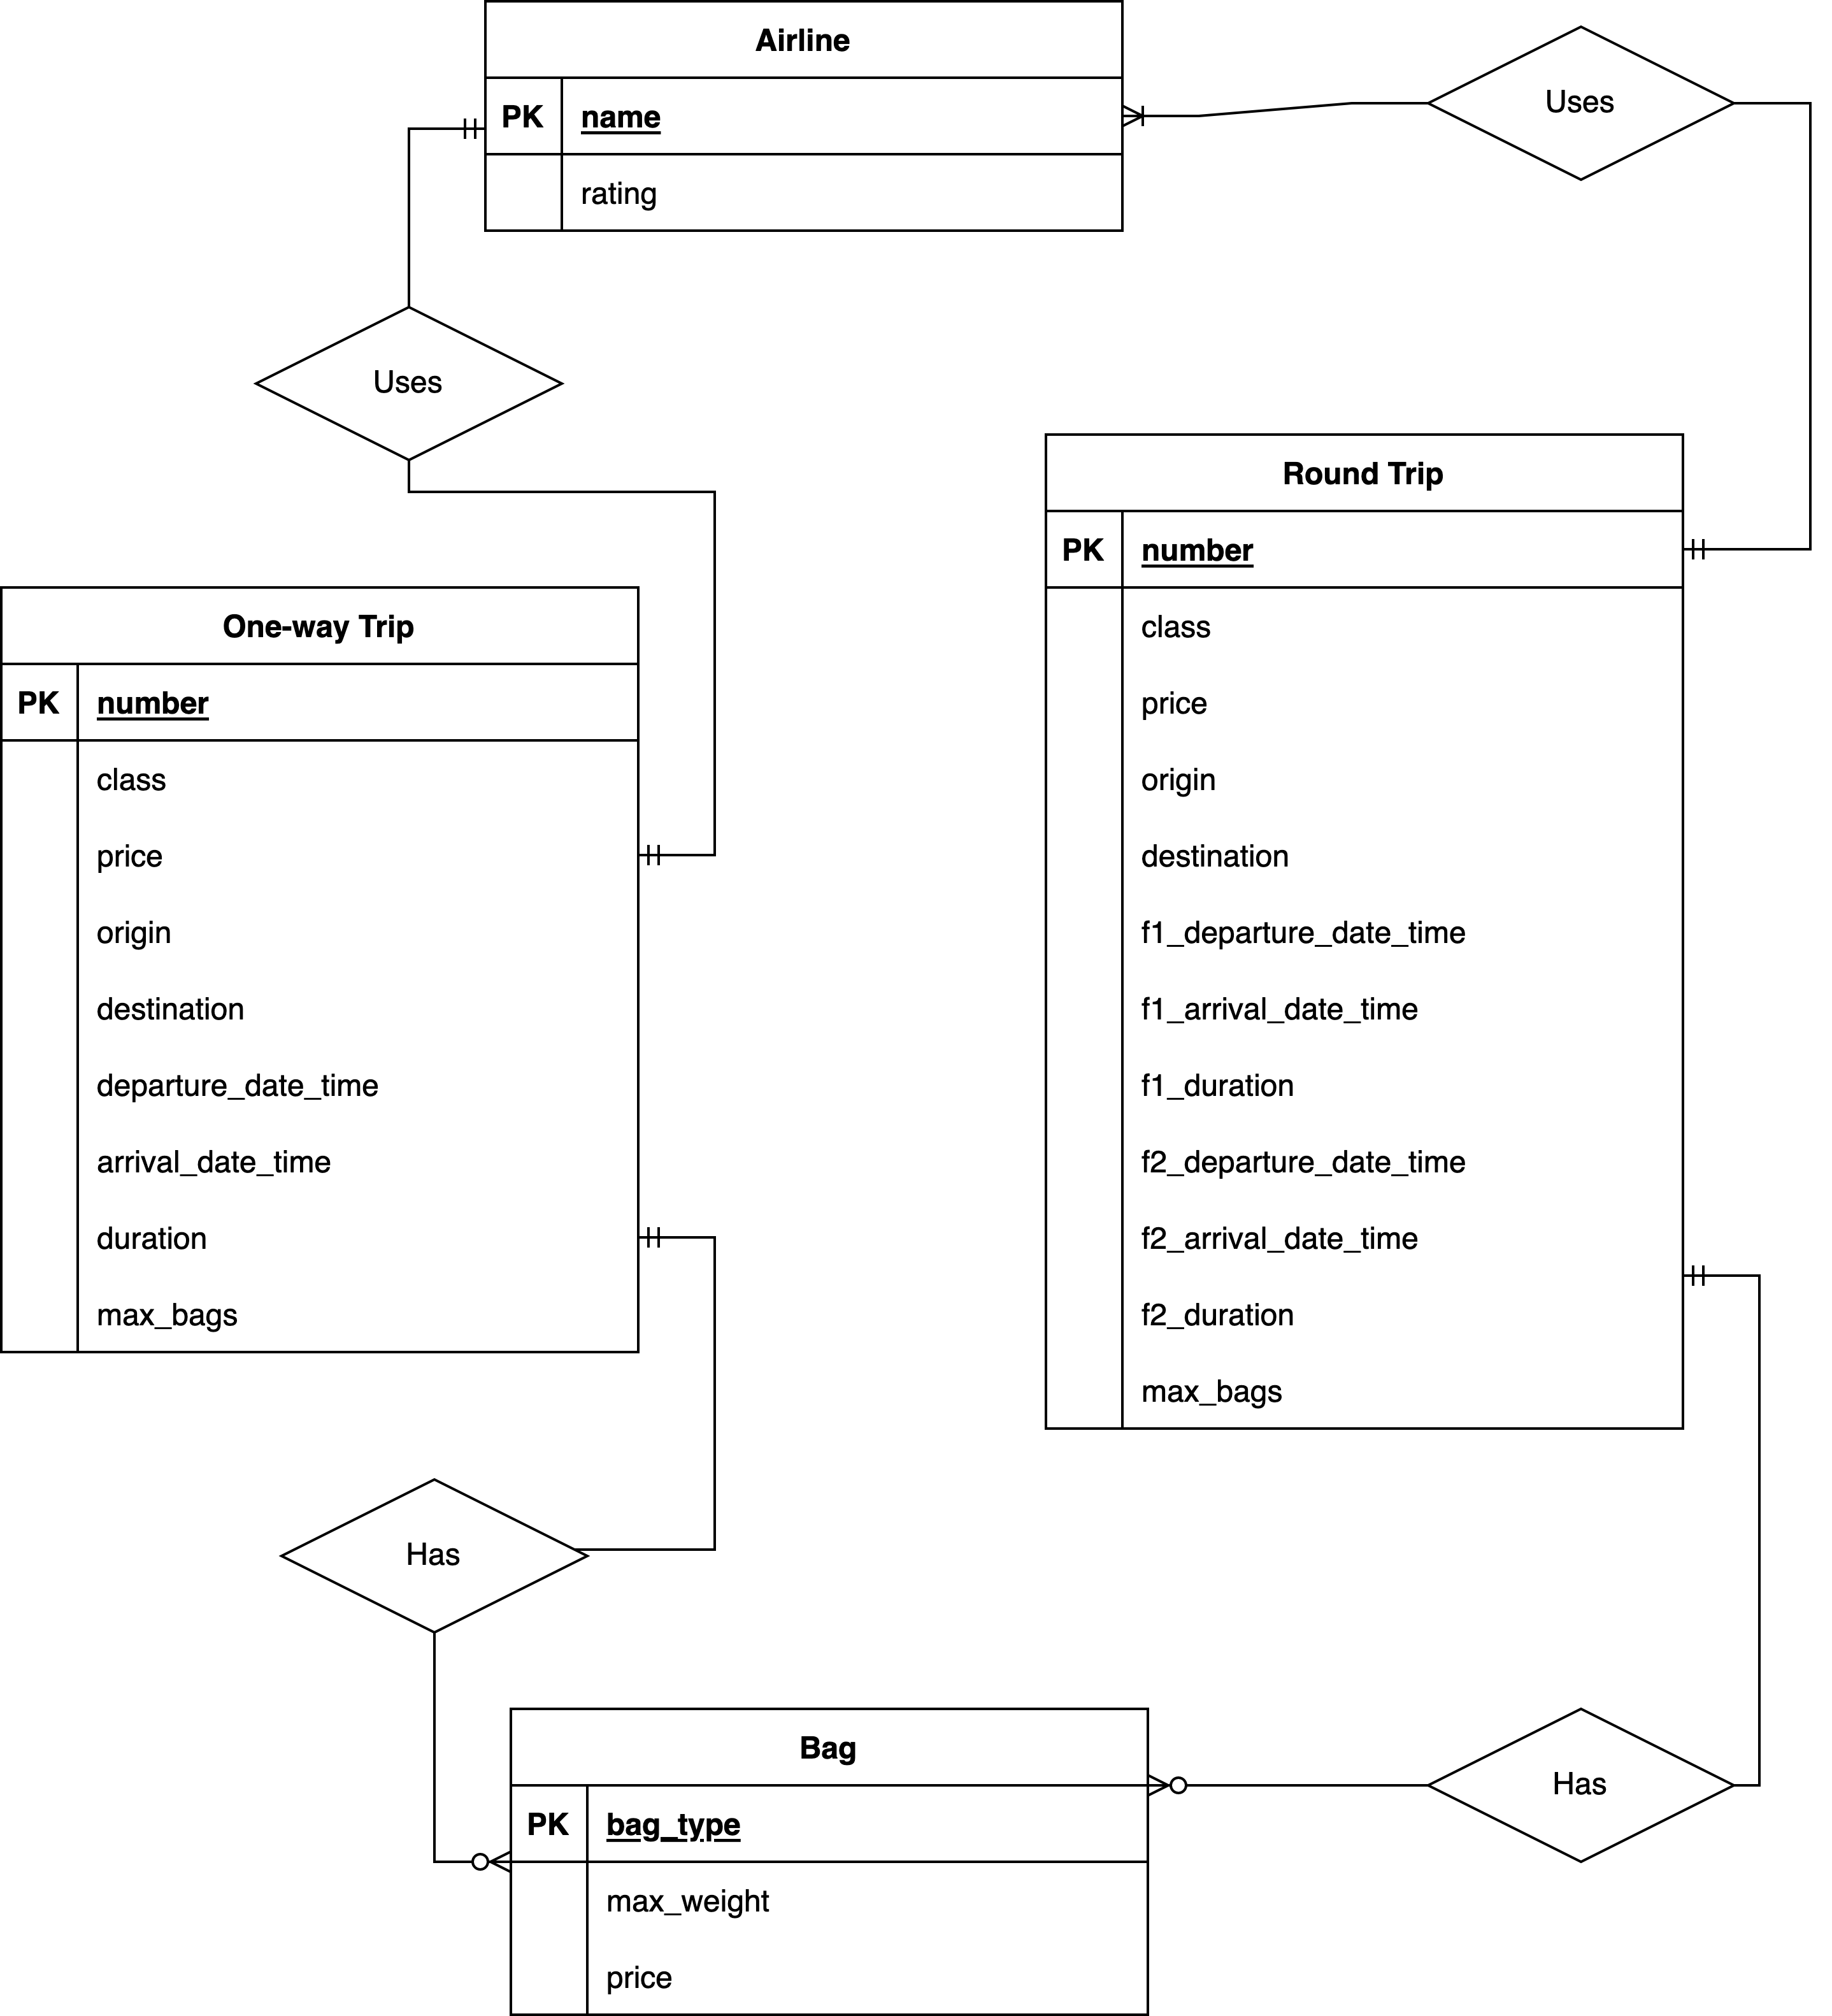entity: (1044, 436, 1690, 1431), (2, 585, 644, 1356), (512, 1709, 1148, 2016), (491, 5, 1123, 230)
many: (1120, 98, 1209, 132), (437, 1847, 514, 1884), (1151, 1770, 1232, 1802)
one: (1681, 537, 1814, 560), (409, 114, 484, 142), (637, 1224, 712, 1250), (1683, 1263, 1760, 1287), (637, 845, 714, 866)
rel: (1423, 1707, 1739, 1865), (1427, 26, 1732, 181), (283, 1480, 590, 1628), (258, 311, 565, 457)
